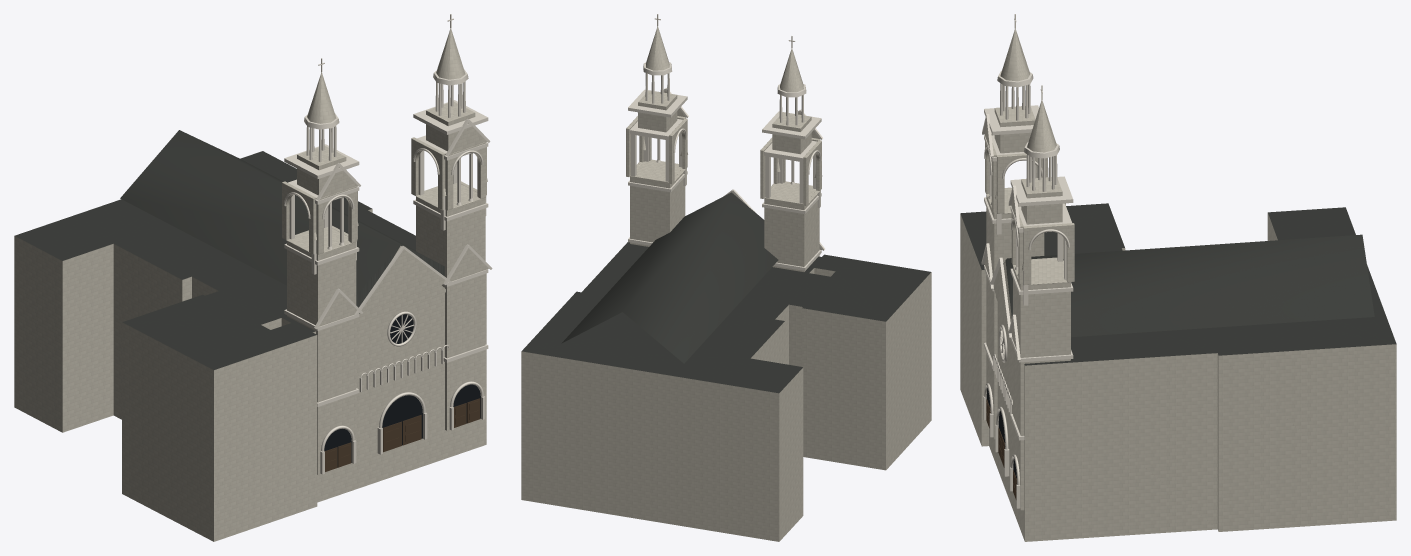
3 views of the same model, side by side, from view 1: azimuth 30°, elevation 25°; view 2: azimuth 150°, elevation 25°; view 3: azimuth 270°, elevation 25° (orthographic). The views are drawn at different scales.
Visible parts, largest first — view 1: Footprint 0 / surface 2, Footprint 0 / surface 1, Church nave pitched roof, Tower shaft / surface 5 (×2), Tower shaft / surface 2 (×2), Stepped stone pediment (×3), Arched belfry masonry / surface 1 (×4), Stone spire / surface 1 (×2), Arched entrance shadow, Central gabled facade; view 2: Footprint 0 / surface 2, Footprint 0 / surface 1, Church nave pitched roof, Tower shaft / surface 6 (×2), Tower shaft / surface 2 (×2), Stone spire / surface 1 (×2), Upper tower drum / surface 6 (×2), Tower shaft / surface 3 (×2); view 3: Footprint 0 / surface 2, Church nave pitched roof, Footprint 0 / surface 1, Tower shaft / surface 1 (×2), Tower shaft / surface 5 (×2), Stone spire / surface 1 (×2), Arched belfry masonry / surface 1 (×2), Upper tower drum / surface 1 (×2), Tower shaft / surface 3, Tower stone belt / surface 3.
Part boxes in pixels (x1,y1,x2,y2): Footprint 0 / surface 2: [14, 209, 486, 541]; Footprint 0 / surface 1: [15, 151, 444, 369]; Church nave pitched roof: [120, 130, 444, 307]; Tower shaft / surface 5 (×2): [318, 197, 485, 474]; Tower shaft / surface 2 (×2): [287, 196, 446, 474]; Stepped stone pediment (×3): [319, 248, 488, 326]; Arched belfry masonry / surface 1 (×4): [282, 139, 486, 254]; Stone spire / surface 1 (×2): [307, 28, 465, 123]; Arched entrance shadow: [382, 395, 422, 445]; Central gabled facade: [356, 246, 445, 322]; Footprint 0 / surface 2: [521, 268, 931, 541]; Footprint 0 / surface 1: [522, 242, 930, 393]; Church nave pitched roof: [561, 192, 778, 363]; Tower shaft / surface 6 (×2): [630, 176, 804, 271]; Tower shaft / surface 2 (×2): [670, 172, 819, 271]; Stone spire / surface 1 (×2): [645, 26, 803, 92]; Upper tower drum / surface 6 (×2): [638, 102, 800, 154]; Tower shaft / surface 3 (×2): [630, 161, 816, 203]; Footprint 0 / surface 2: [960, 212, 1396, 541]; Church nave pitched roof: [1003, 234, 1374, 337]; Footprint 0 / surface 1: [960, 203, 1396, 365]; Tower shaft / surface 1 (×2): [994, 212, 1070, 510]; Tower shaft / surface 5 (×2): [986, 195, 1020, 509]; Stone spire / surface 1 (×2): [1000, 28, 1056, 152]; Arched belfry masonry / surface 1 (×2): [997, 155, 1074, 284]; Upper tower drum / surface 1 (×2): [1000, 120, 1062, 224]; Tower shaft / surface 3: [1031, 259, 1066, 282]; Tower stone belt / surface 3: [1010, 176, 1072, 202].
Size of the model in its own units: 49.44 by 62.43 by 55.77.
